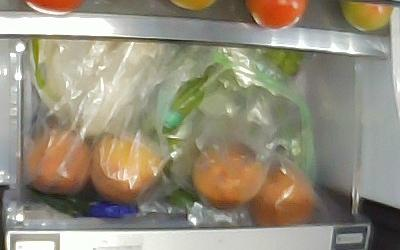peach_vinyl: (90, 133, 161, 201), (192, 141, 263, 209), (23, 128, 92, 196), (251, 167, 312, 223)
